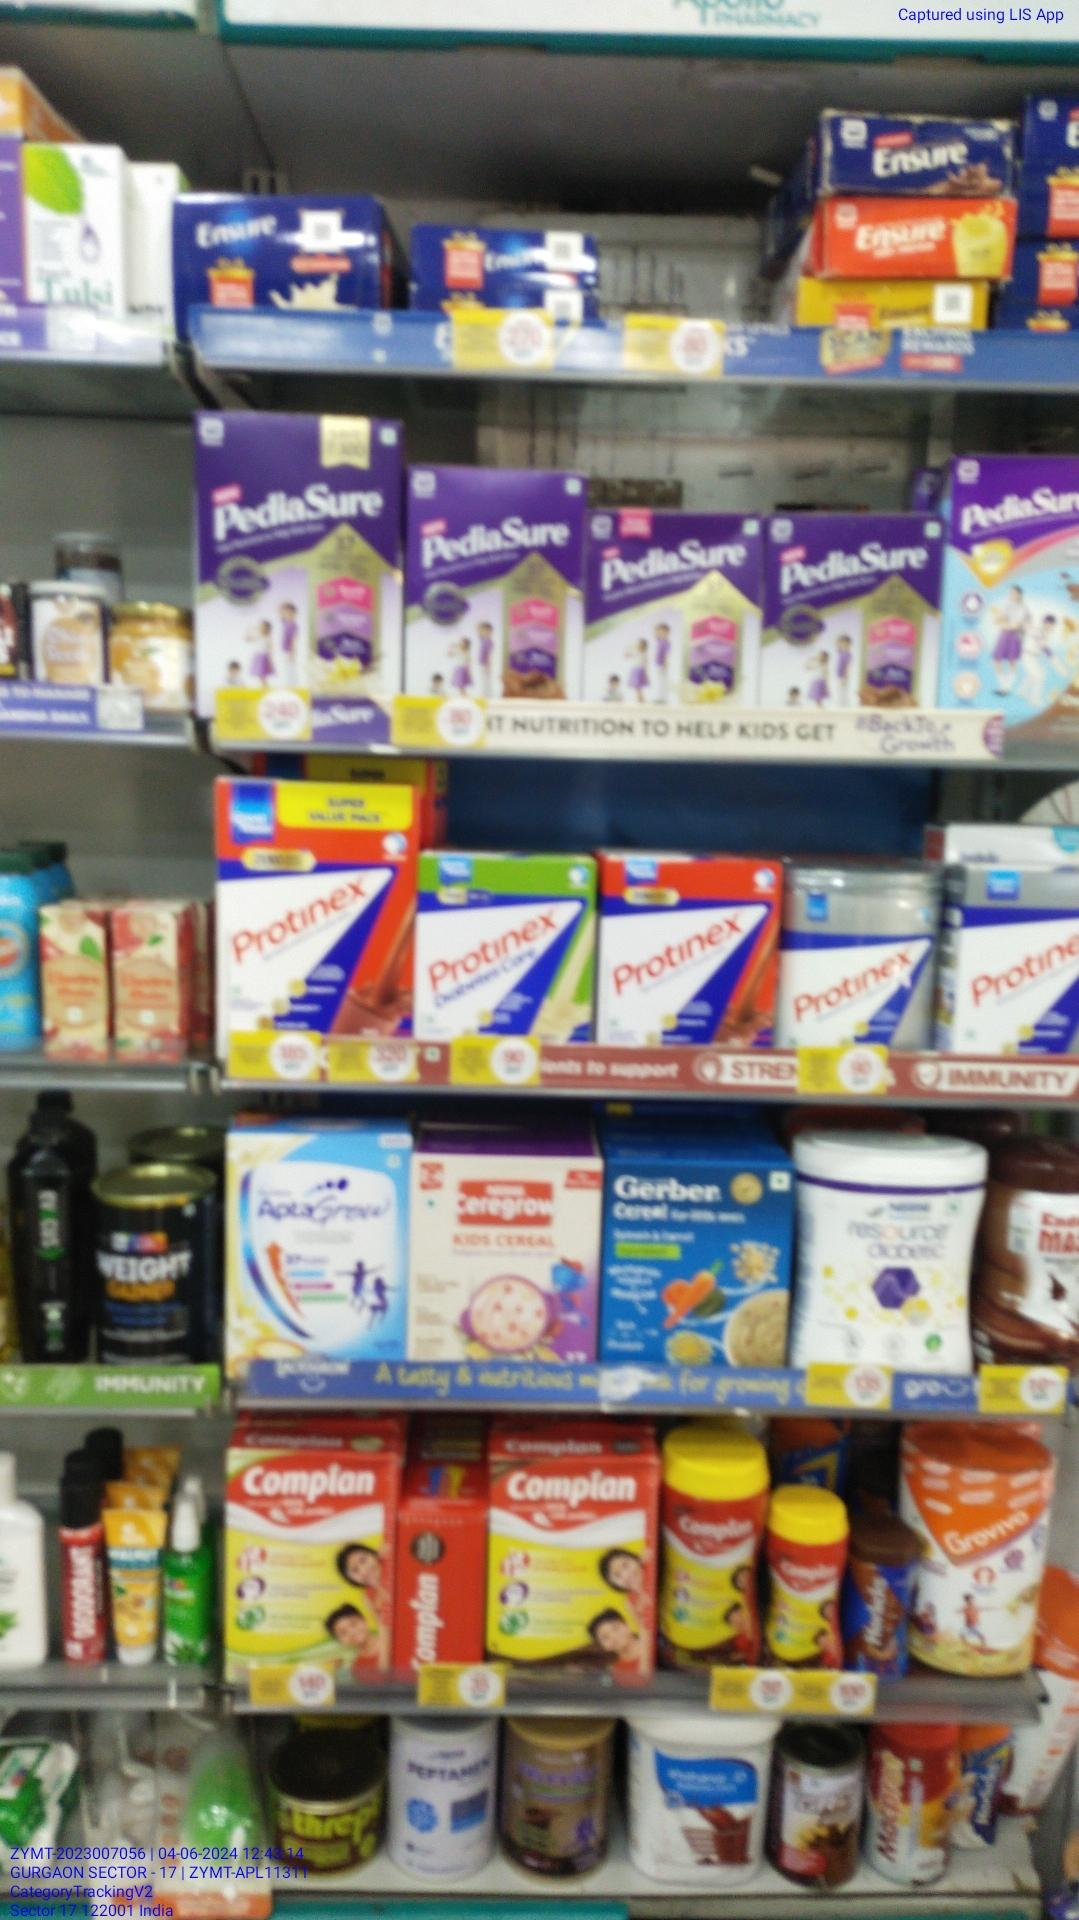COMPLAN_CHOCOLATE_200_GMS_JAR: (770, 1489, 842, 1664)
PEDIASURE_CHOCOLATE_500_G_PACK: (402, 468, 575, 700), (769, 514, 939, 719)
PEDIASURE_VANILLA_500_G_PACK: (193, 410, 394, 725), (594, 504, 761, 713)
PROTINEX_ORIGINAL_400_G_JAR: (781, 860, 930, 1054)
